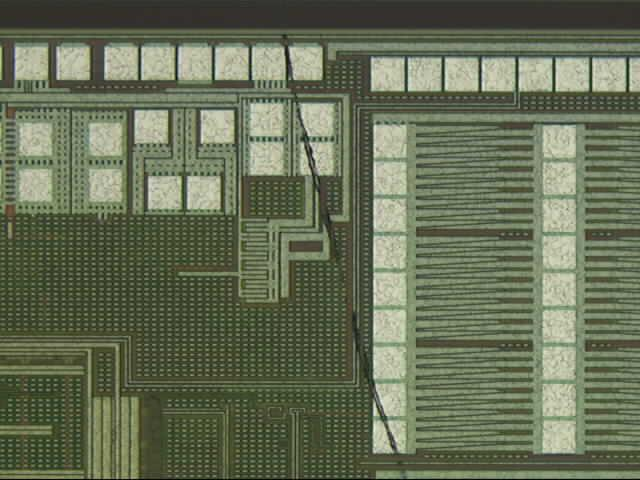SCRATCH: (276, 27, 411, 480)
